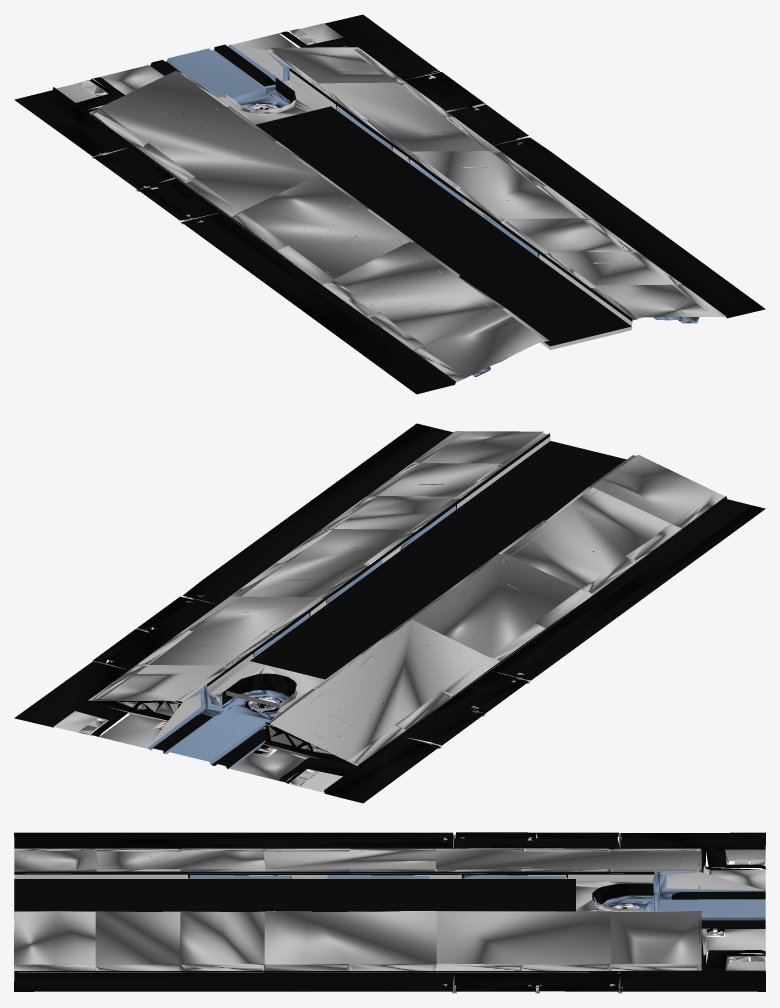
The model's file is hangar_business_v2_Structure_Roof_01_xlarge.glb.
The picture shows the model from 3 angles, top to bottom: view 1: azimuth 30°, elevation 25°; view 2: azimuth 150°, elevation 25°; view 3: azimuth 270°, elevation 25°; orthographic projection. The views are drawn at different scales.
Parts seen in each view (by area): view 1: object 1; view 2: object 1; view 3: object 1.
Boxes of the visible parts, <box> form: object 1: <box>14,14,765,394</box>; object 1: <box>14,423,765,803</box>; object 1: <box>14,832,765,993</box>.
Bounding box in the file's own units: 72.36 × 5.39 × 145.
